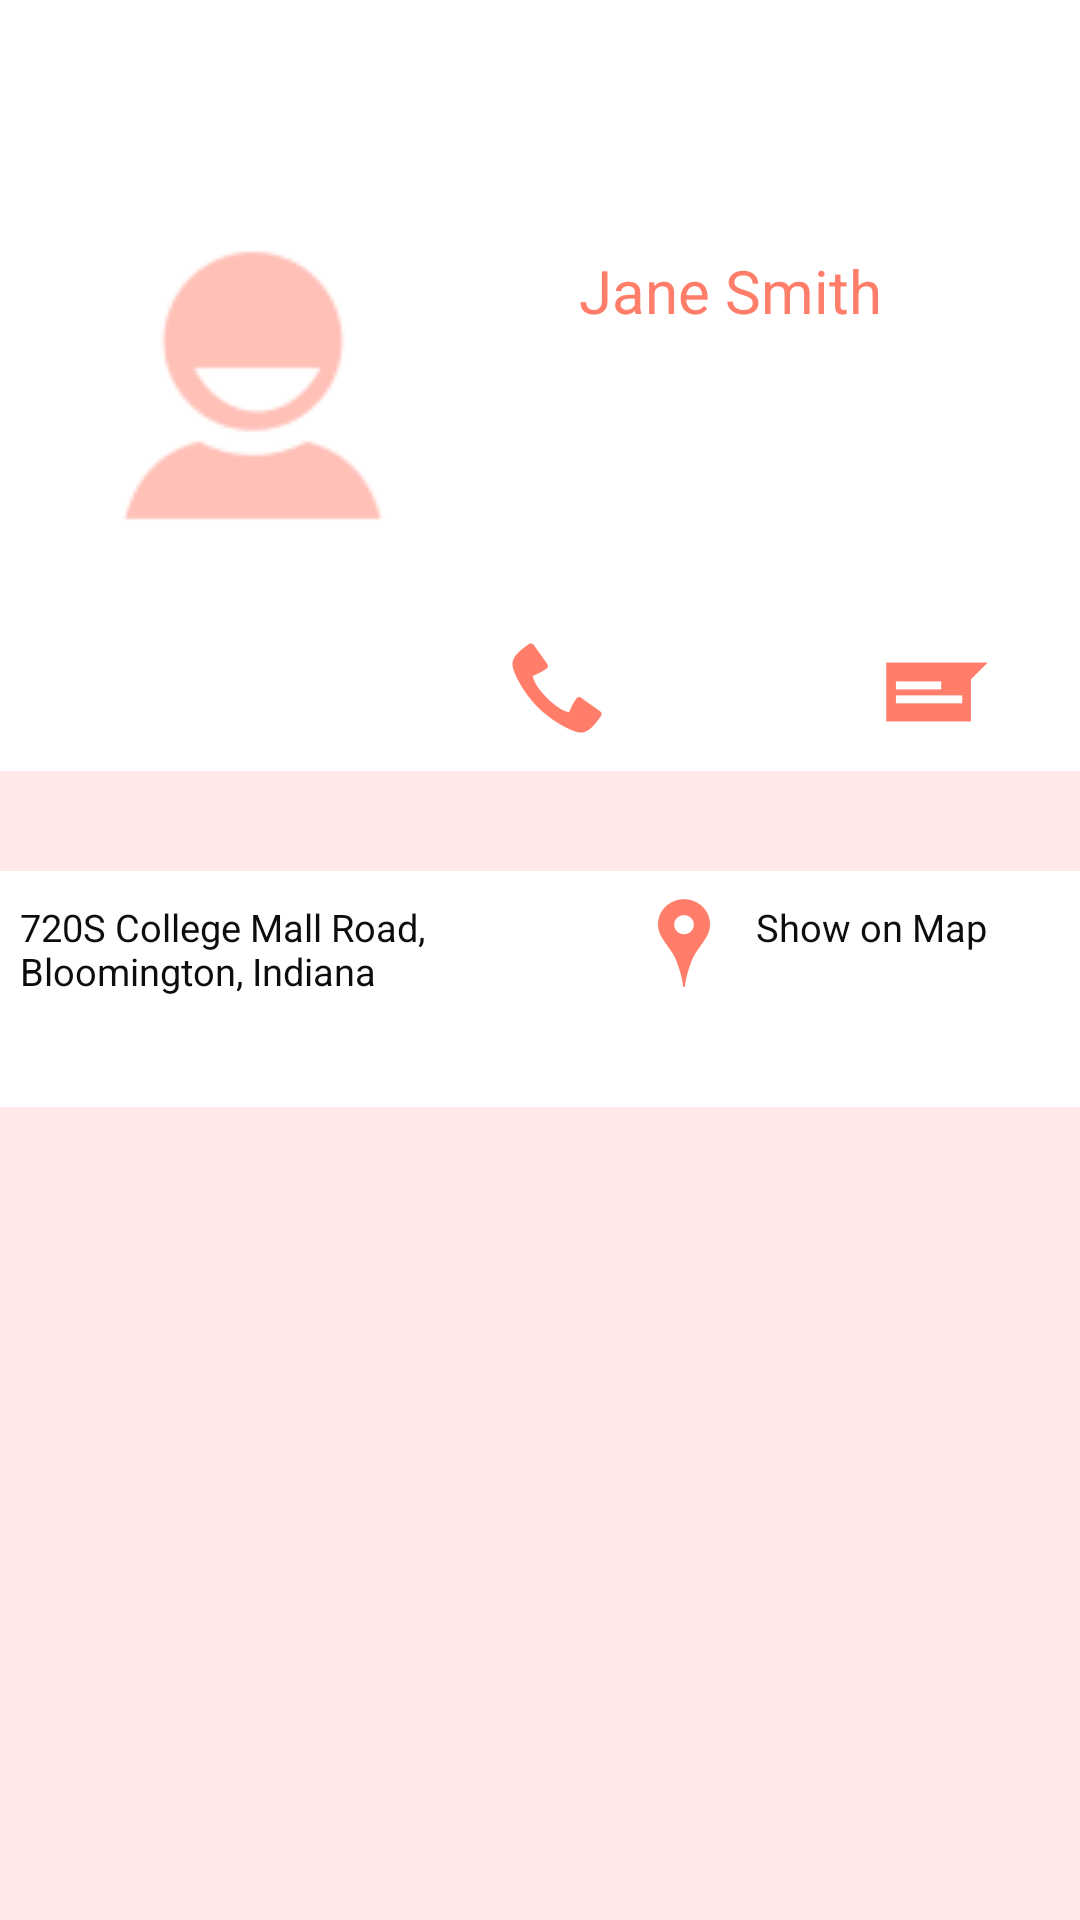

Icon click points for this 1080x1920 phone screenshot, format [x,y]:
contact: [253,385]
mom map: [684,943]
mompage message: [937,692]
mompage phone: [557,688]
